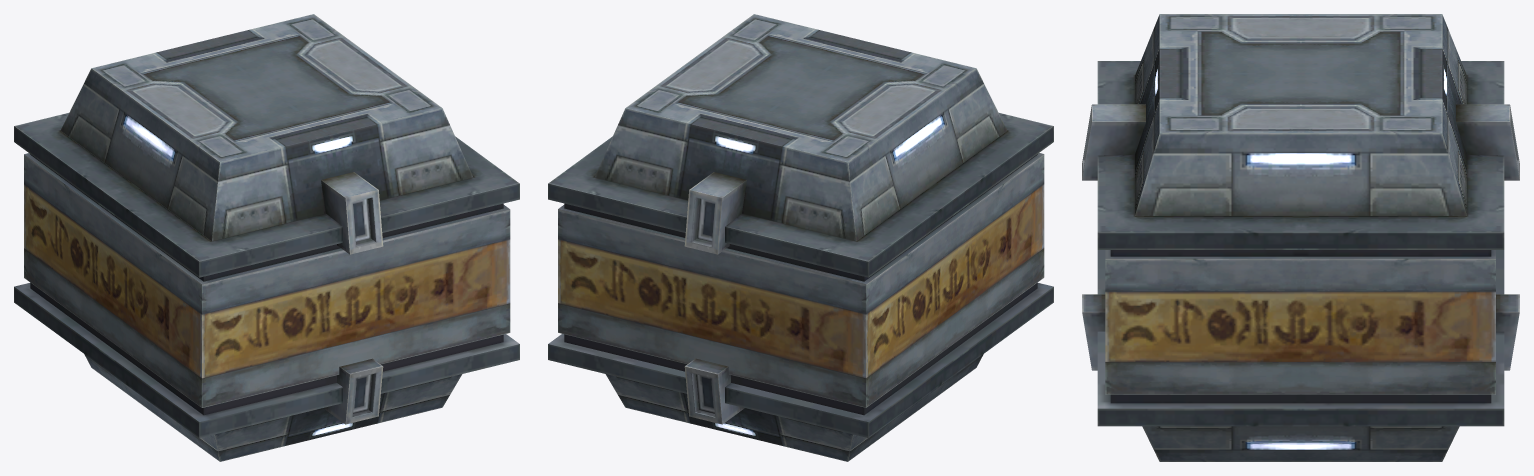
Rendered from item_con_plasteel_crate_01.glb.
The picture shows the model from 3 angles, left to right: view 1: azimuth 30°, elevation 25°; view 2: azimuth 150°, elevation 25°; view 3: azimuth 270°, elevation 25°; orthographic projection. The views are drawn at different scales.
Parts seen in each view (by area): view 1: item_con_plasteel_crate_01; view 2: item_con_plasteel_crate_01; view 3: item_con_plasteel_crate_01.
Boxes of the visible parts, x1,y1,x2,y2 form: item_con_plasteel_crate_01: (14,14,519,461); item_con_plasteel_crate_01: (548,14,1053,461); item_con_plasteel_crate_01: (1082,14,1519,461).
Size of the model in its own units: 0.1249 by 0.1116 by 0.1346.
1 material, 1 textured.
